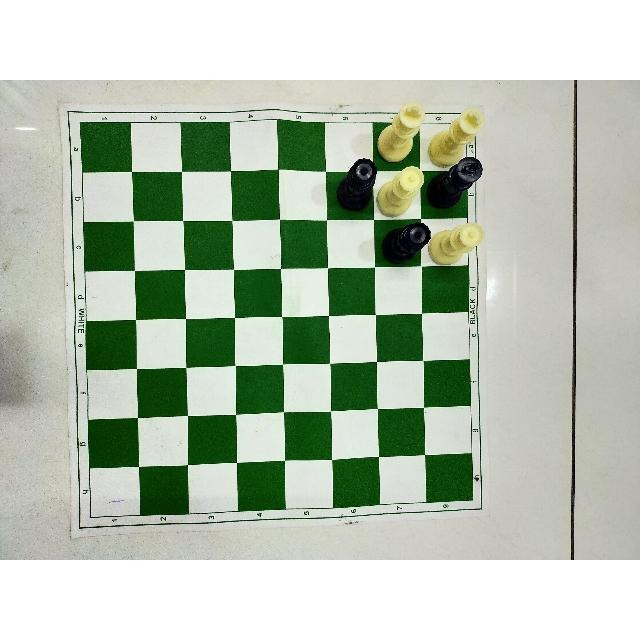black-king: (426, 156, 482, 211)
black-queen: (335, 156, 377, 211), (378, 222, 431, 264)
white-king: (427, 106, 484, 168), (376, 98, 425, 164)
white-queen: (428, 220, 484, 274), (376, 164, 424, 218)
